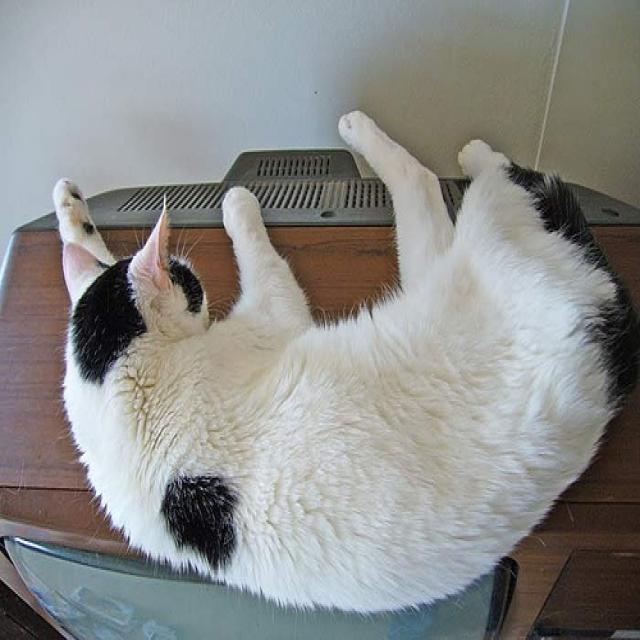cat: (54, 108, 638, 616)
tvmonitor: (1, 148, 639, 638)
